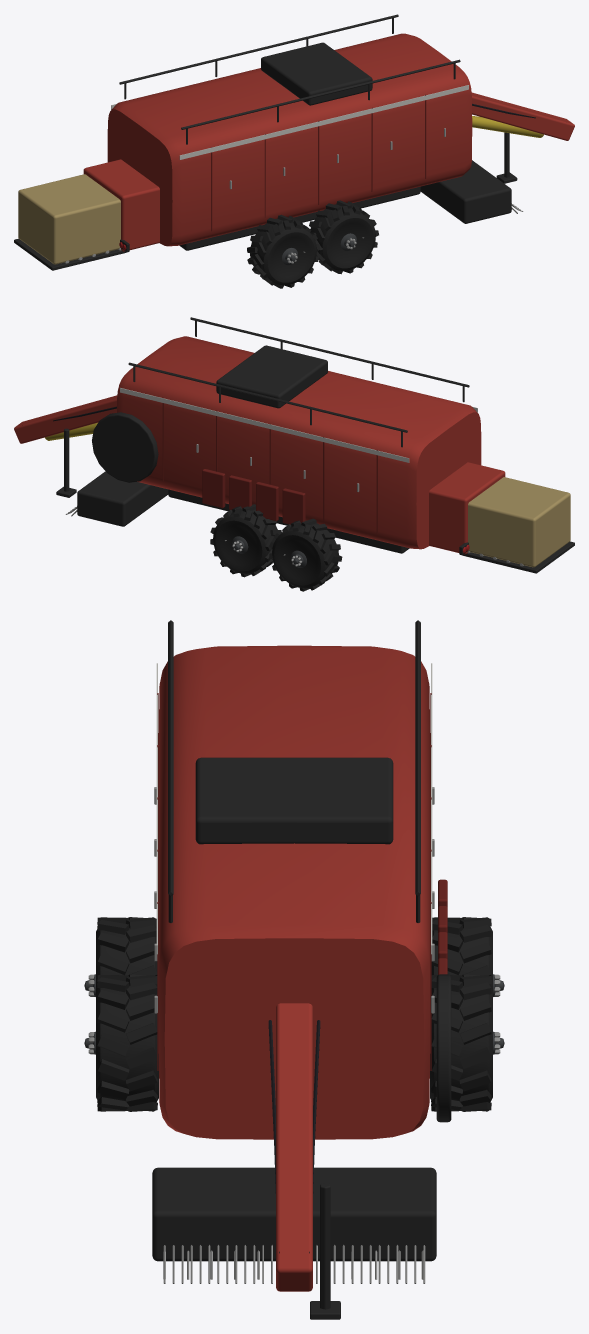
Rendered from SM_Prop_farm_baler_0.glb.
3 views of the same model, one above another, from view 1: azimuth 30°, elevation 25°; view 2: azimuth 150°, elevation 25°; view 3: azimuth 270°, elevation 25° (orthographic). The views are drawn at different scales.
Visible parts, largest first — view 1: SM_Prop_farm_baler_0; view 2: SM_Prop_farm_baler_0; view 3: SM_Prop_farm_baler_0.
Part boxes in pixels (<box>): SM_Prop_farm_baler_0: <box>14,14,574,288</box>; SM_Prop_farm_baler_0: <box>14,317,574,591</box>; SM_Prop_farm_baler_0: <box>84,620,504,1319</box>.
Size of the model in its own units: 10.05 by 3.03 by 3.4.
